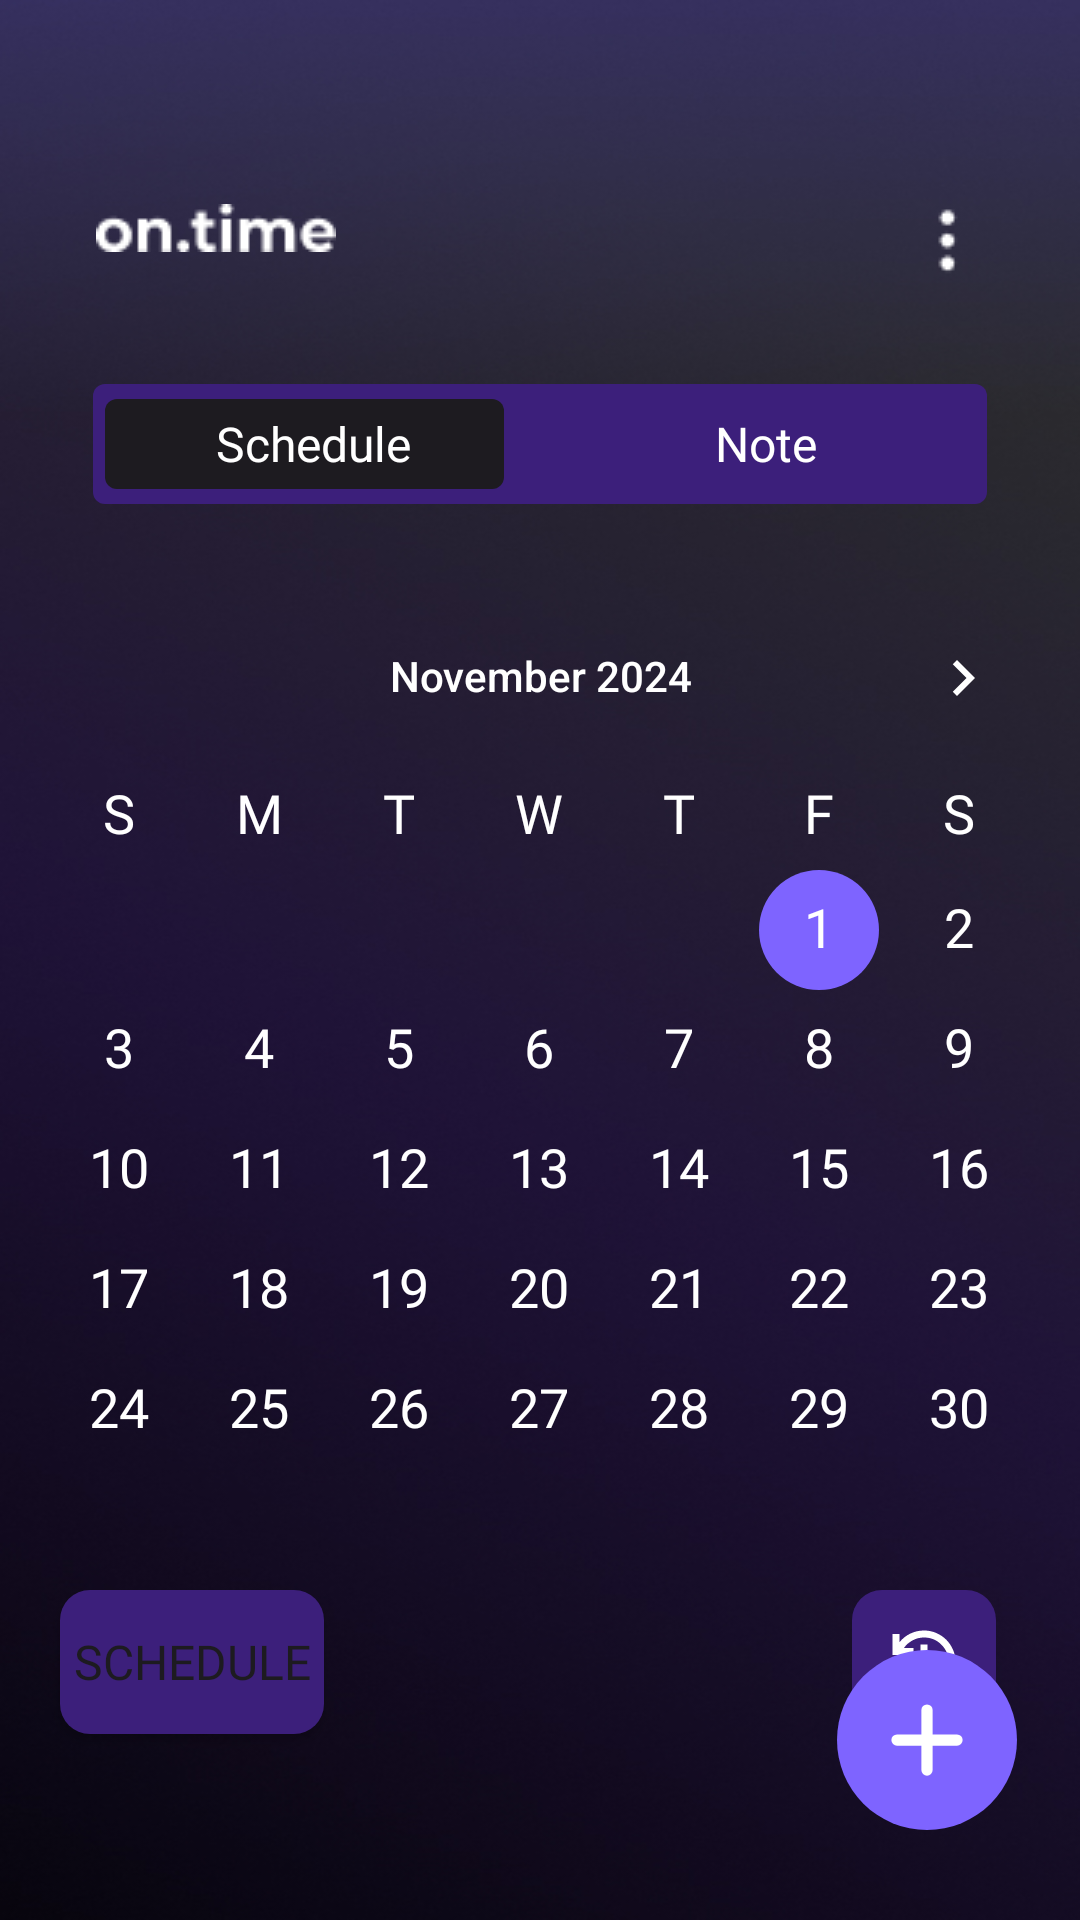

Named icons in this screenshot (1080*1920) and their bounding boxes, bbox=[x1, y1, x2, y2]:
three dots: bbox=[938, 209, 956, 271]
